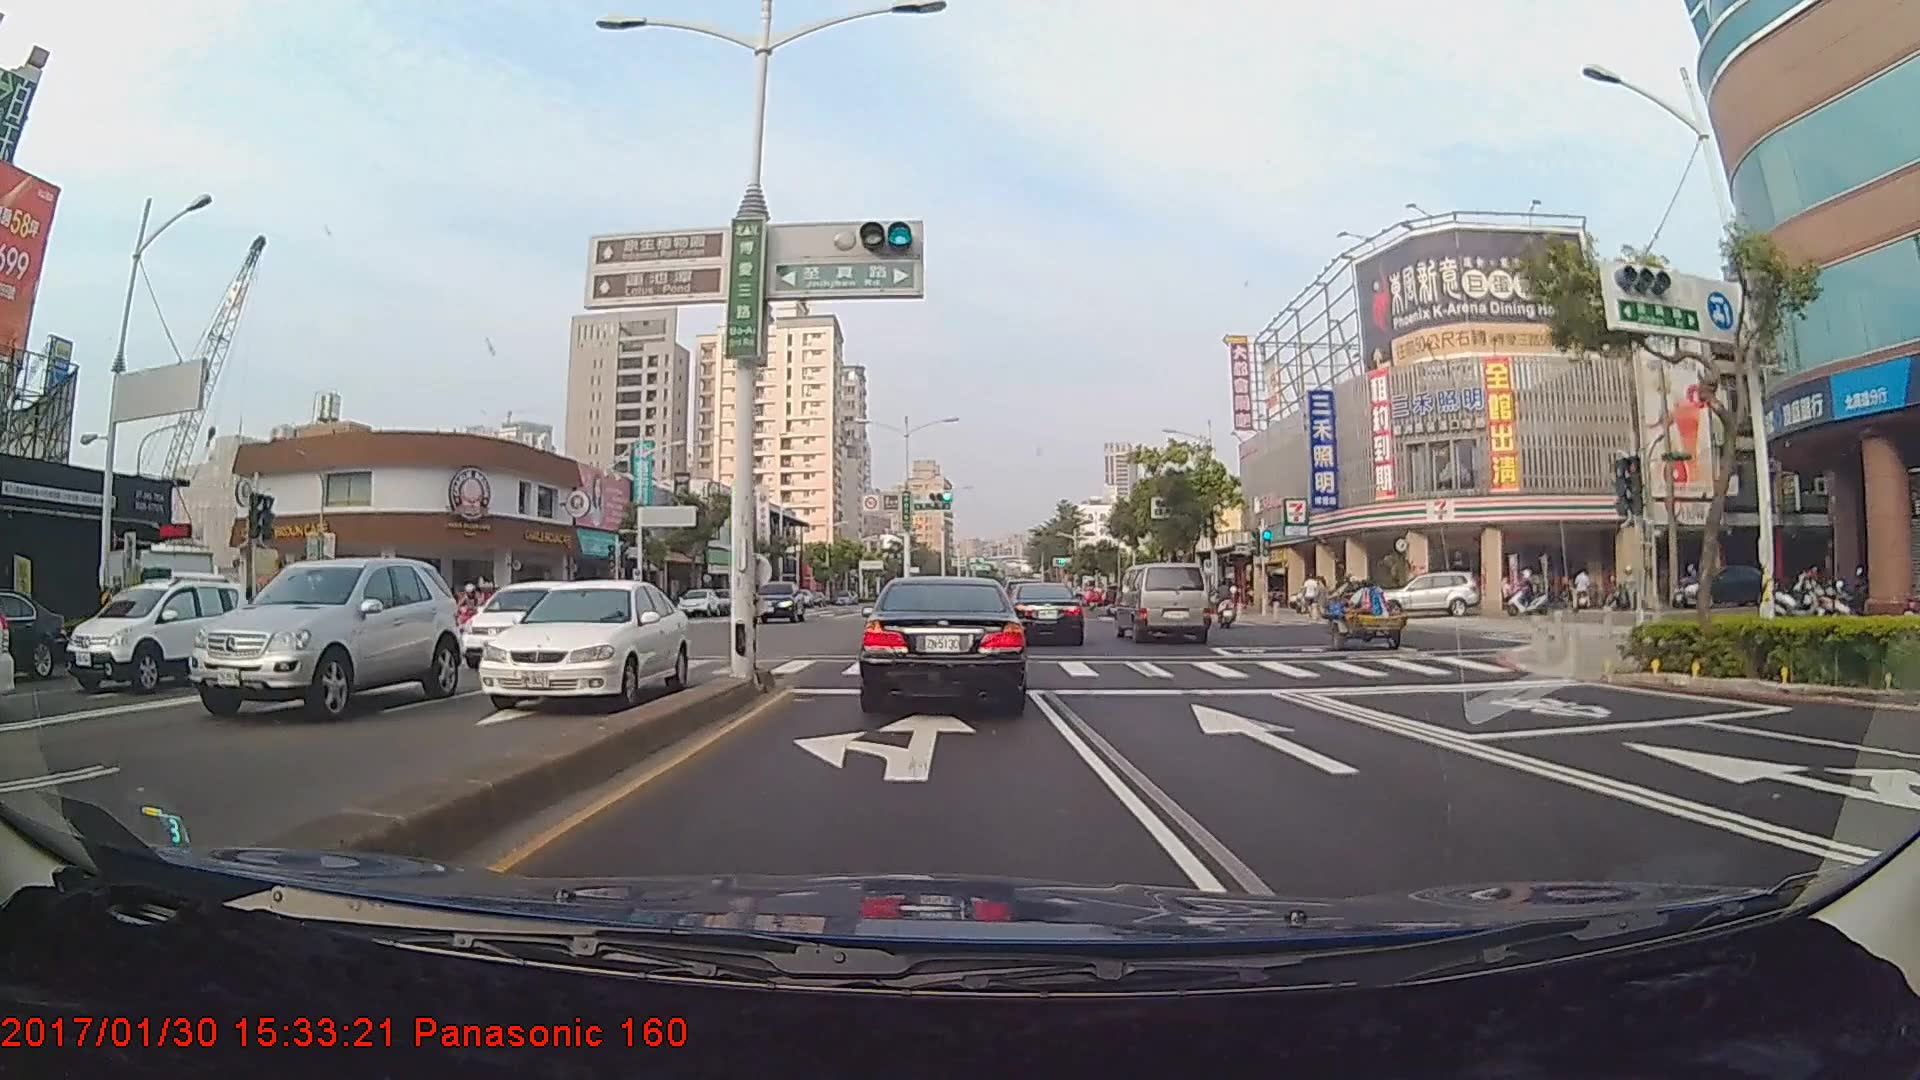rider: (447, 581, 489, 641), (1209, 581, 1243, 634)
vehicle: (169, 552, 454, 721), (461, 576, 698, 715), (862, 572, 1028, 715), (64, 571, 247, 700), (454, 583, 592, 670), (1115, 561, 1211, 644), (2, 592, 65, 677), (1008, 582, 1085, 646), (1399, 572, 1481, 619), (674, 587, 721, 617)
